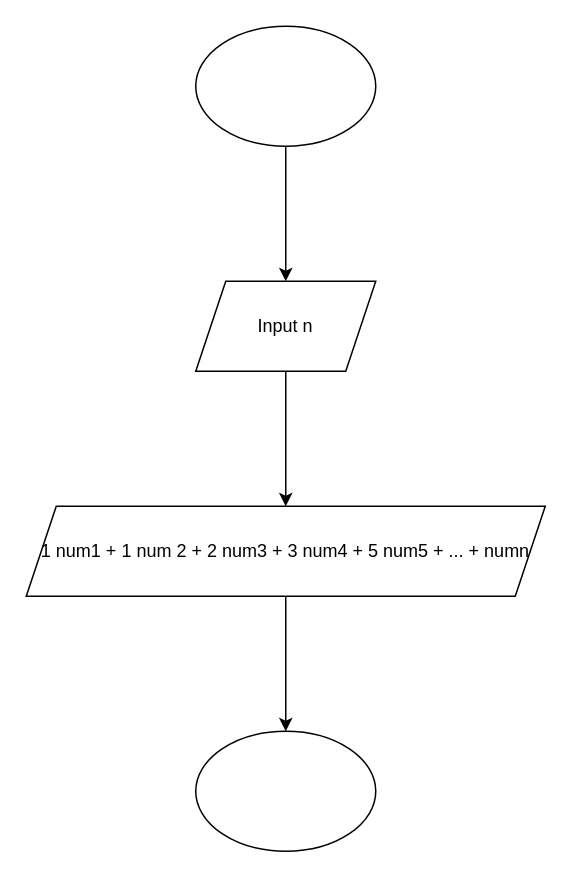
Some shapes in this 572 by 878 pixel diagram are drawn without their labels. The centre of each missing label's shape, as x and y in pixels:
End: point 285,790
Start: point 285,85
